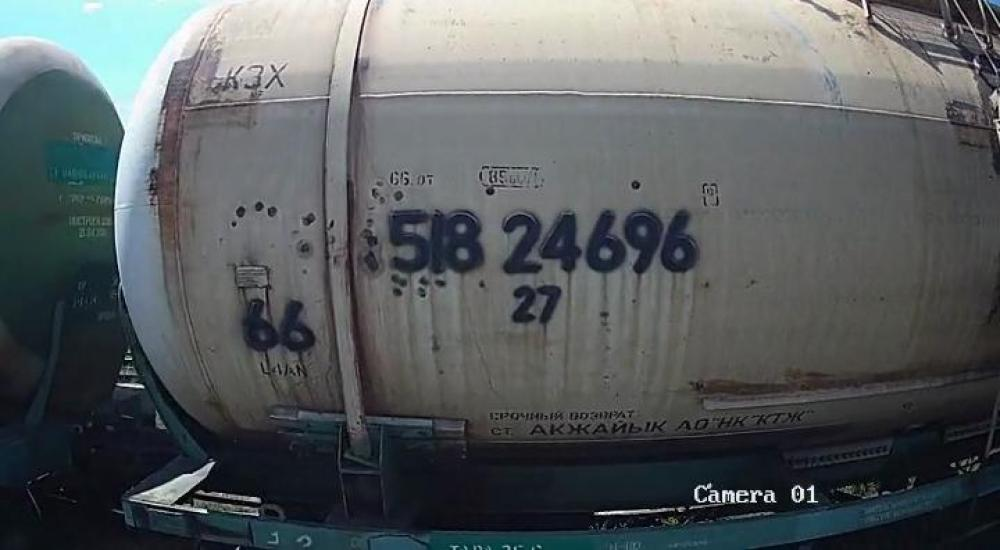Wagon-number: (383, 204, 705, 281)
